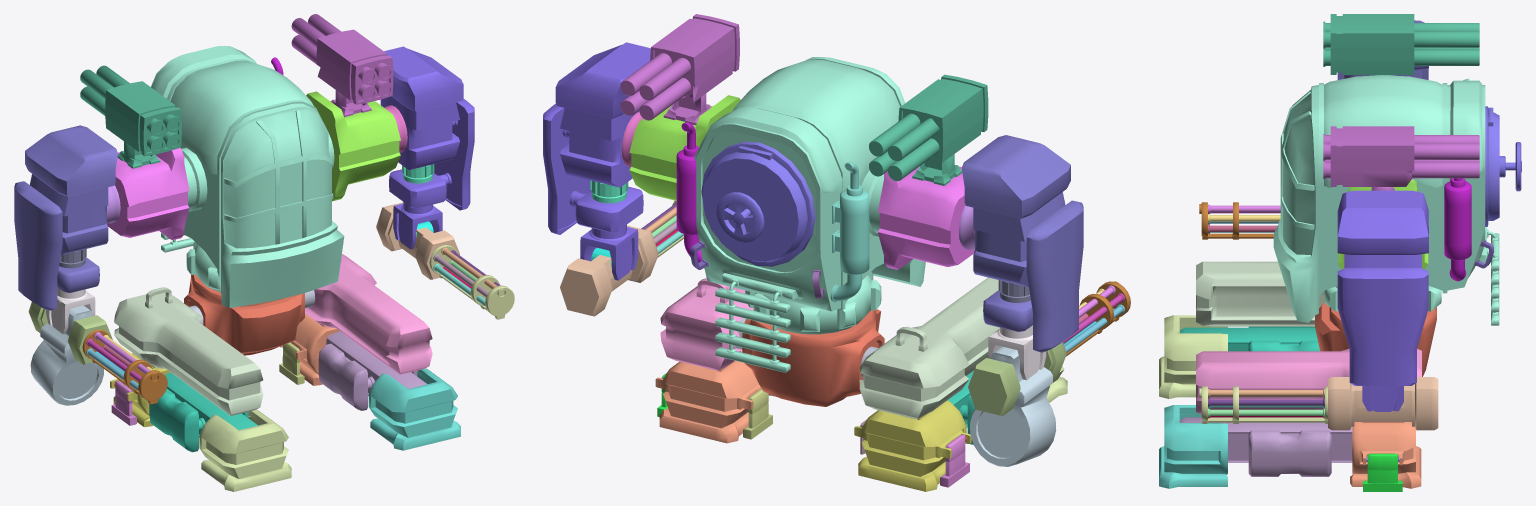
3 views of the same model, side by side, from view 1: azimuth 30°, elevation 25°; view 2: azimuth 150°, elevation 25°; view 3: azimuth 270°, elevation 25° (orthographic). The views are drawn at different scales.
Parts seen in each view (by area): view 1: Object_2, Object_5.011, split_parent_35, split_parent_4, Object_5.800, split_parent_11, split_parent_16, Object_7.784, Object_6.014, Object_6.077, Object_7.457, Object_5.582 (+12 smaller); view 2: Object_2, Object_5.011, split_parent_35, split_parent_22, split_parent_4, split_parent_11, split_parent_16, Object_5.582, Object_6.077, Object_6.545, Object_6.1267, Object_5.249 (+12 smaller); view 3: Object_2, split_parent_35, split_parent_16, split_parent_11, Object_5.800, Object_5.601, split_parent_4, Object_7.784, Object_10.975, Object_6.014, Object_6.1267, Object_5.040 (+13 smaller).
Part boxes in pixels (bbox=[...]): Object_2: bbox=[151, 46, 344, 307]; Object_5.011: bbox=[14, 125, 117, 310]; split_parent_35: bbox=[380, 46, 474, 249]; split_parent_4: bbox=[114, 287, 263, 415]; Object_5.800: bbox=[305, 254, 432, 374]; split_parent_11: bbox=[80, 65, 181, 168]; split_parent_16: bbox=[291, 14, 393, 116]; Object_7.784: bbox=[368, 368, 460, 450]; Object_6.014: bbox=[199, 409, 291, 491]; Object_6.077: bbox=[107, 148, 189, 240]; Object_7.457: bbox=[306, 91, 400, 201]; Object_5.582: bbox=[184, 274, 304, 355]; Object_2: bbox=[694, 57, 925, 372]; Object_5.011: bbox=[961, 135, 1083, 352]; split_parent_35: bbox=[543, 42, 650, 280]; split_parent_22: bbox=[701, 141, 815, 266]; split_parent_4: bbox=[859, 277, 999, 419]; split_parent_11: bbox=[869, 74, 988, 185]; split_parent_16: bbox=[620, 14, 739, 125]; Object_5.582: bbox=[742, 309, 884, 406]; Object_6.077: bbox=[878, 166, 974, 269]; Object_6.545: bbox=[854, 400, 971, 491]; Object_6.1267: bbox=[655, 360, 771, 443]; Object_5.249: bbox=[970, 346, 1056, 466]; Object_2: bbox=[1273, 75, 1499, 325]; split_parent_35: bbox=[1337, 190, 1428, 411]; split_parent_16: bbox=[1323, 126, 1479, 190]; split_parent_11: bbox=[1323, 14, 1479, 75]; Object_5.800: bbox=[1196, 348, 1421, 414]; Object_5.601: bbox=[1180, 417, 1352, 476]; split_parent_4: bbox=[1196, 261, 1324, 326]; Object_7.784: bbox=[1159, 405, 1227, 488]; Object_10.975: bbox=[1328, 377, 1438, 430]; Object_6.014: bbox=[1159, 315, 1227, 398]; Object_6.1267: bbox=[1350, 422, 1421, 488]; Object_5.040: bbox=[1180, 326, 1319, 351].
Size of the model in its own units: 1 by 0.7083 by 0.6705.
